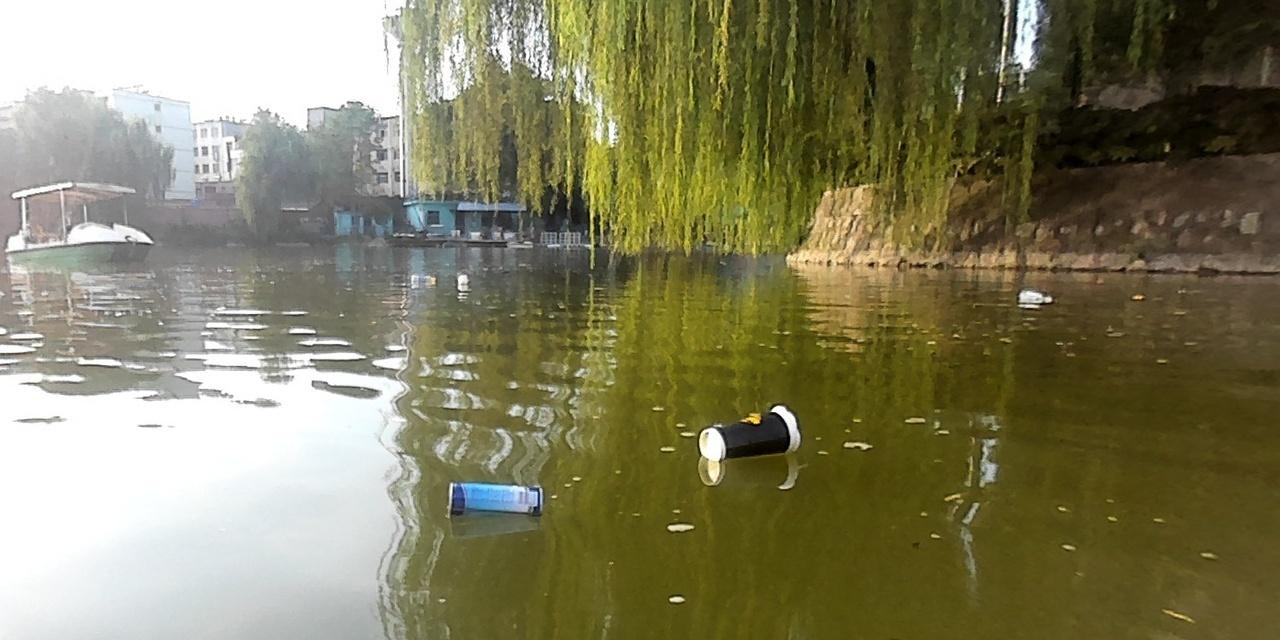bottle: (697, 399, 806, 462), (441, 477, 546, 520), (1016, 286, 1053, 305), (408, 272, 439, 285)
